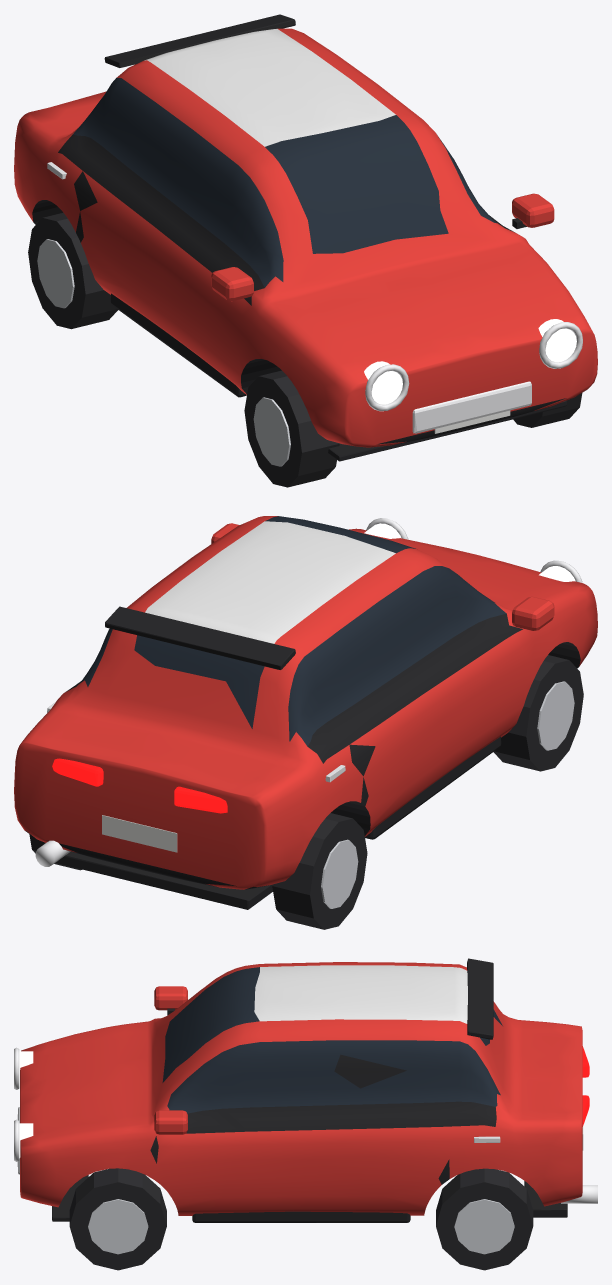
The model's file is pixie_lod.glb.
3 views of the same model, one above another, from view 1: azimuth 30°, elevation 25°; view 2: azimuth 150°, elevation 25°; view 3: azimuth 270°, elevation 25° (orthographic). The views are drawn at different scales.
Visible parts, largest first — view 1: body, wheel_fr, wheel_rr, wheel_fl; view 2: body, wheel_rr, wheel_fr; view 3: body, wheel_fl, wheel_rl.
Boxes of the visible parts, bbox=[...] form: body: bbox=[14, 14, 597, 461]; wheel_fr: bbox=[244, 370, 339, 487]; wheel_rr: bbox=[28, 212, 117, 329]; wheel_fl: bbox=[513, 393, 582, 427]; body: bbox=[14, 516, 597, 909]; wheel_rr: bbox=[272, 813, 367, 929]; wheel_fr: bbox=[493, 655, 583, 771]; body: bbox=[14, 958, 597, 1222]; wheel_fl: bbox=[69, 1168, 166, 1270]; wheel_rl: bbox=[436, 1168, 533, 1270].
Size of the model in its own units: 1.91 by 1.46 by 3.48.
